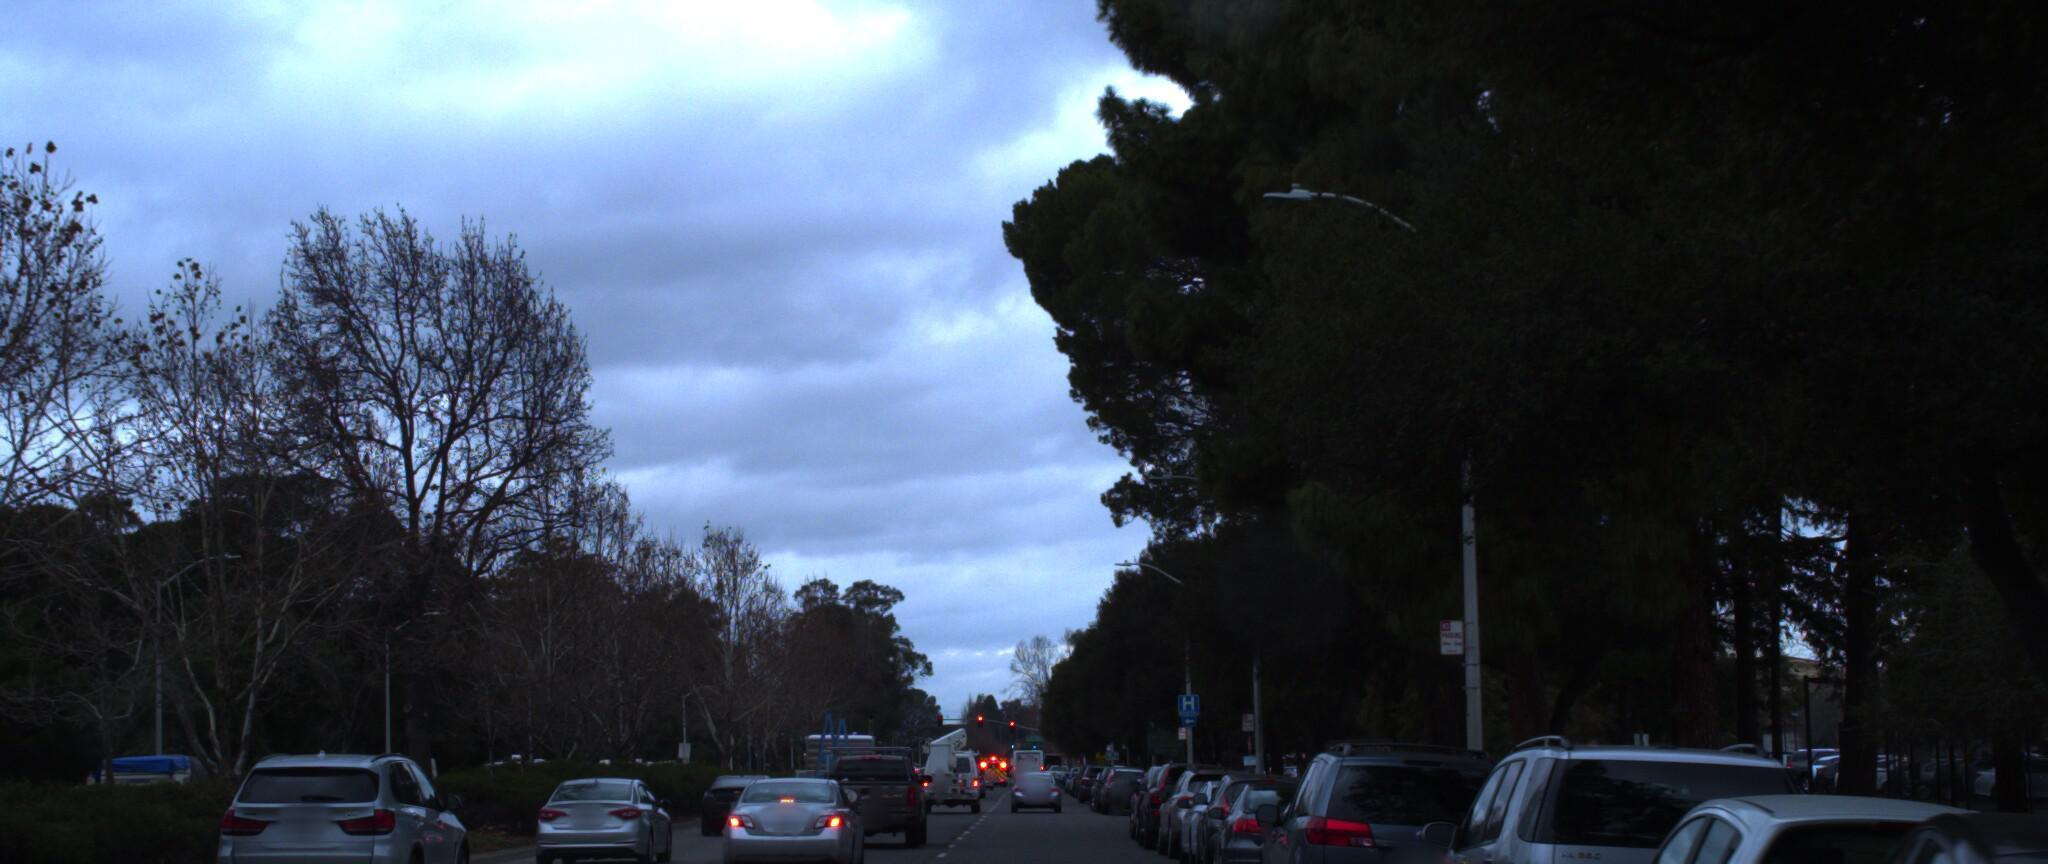car: (1386, 707, 1866, 864), (1541, 765, 2048, 864), (1243, 722, 1565, 864), (209, 743, 488, 864), (1721, 774, 2048, 864), (1202, 761, 1374, 864), (714, 760, 878, 864), (1185, 753, 1330, 864), (536, 769, 671, 864), (814, 728, 929, 837), (1152, 744, 1267, 846), (0, 715, 26, 864)
